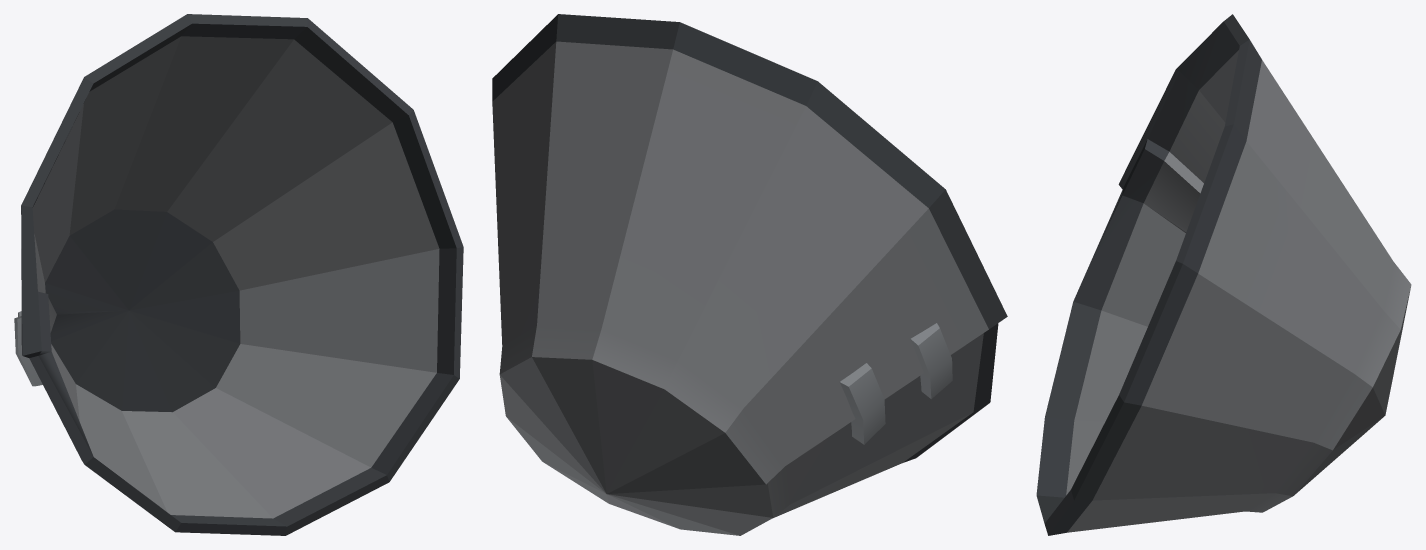
The model's file is SM_Chr_Attach_HeadCone_Large_01.fbx.
3 views of the same model, side by side, from view 1: azimuth 30°, elevation 25°; view 2: azimuth 150°, elevation 25°; view 3: azimuth 270°, elevation 25° (orthographic). The views are drawn at different scales.
Visible parts, largest first — view 1: SM_Chr_Attach_HeadCone_Large_01; view 2: SM_Chr_Attach_HeadCone_Large_01; view 3: SM_Chr_Attach_HeadCone_Large_01.
Part boxes in pixels (x1,y1,x2,y2): SM_Chr_Attach_HeadCone_Large_01: (14,14,463,535); SM_Chr_Attach_HeadCone_Large_01: (492,14,1007,535); SM_Chr_Attach_HeadCone_Large_01: (1036,14,1411,535).
Bounding box in the file's own units: 54.26 × 52.73 × 38.28.
